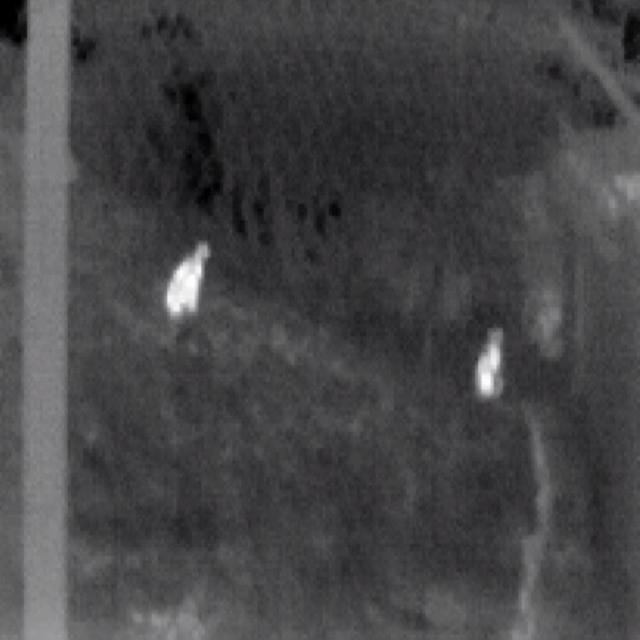cheetah: (168, 242, 209, 314), (477, 328, 504, 397)
